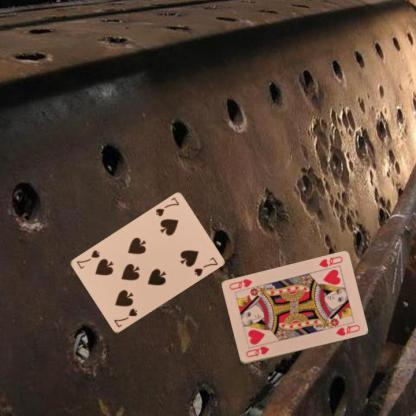7s: (152, 195, 180, 218), (112, 306, 138, 328)
Qh: (244, 344, 271, 359), (316, 254, 344, 268)
